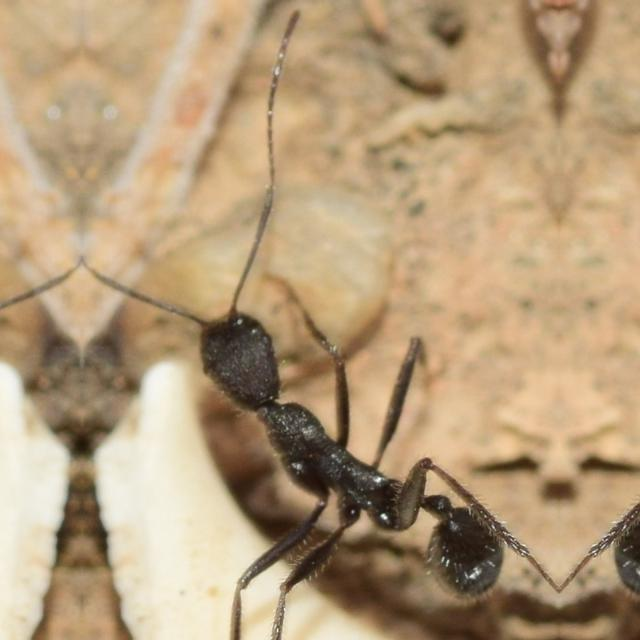Apheanogaster: (158, 243, 544, 631)
